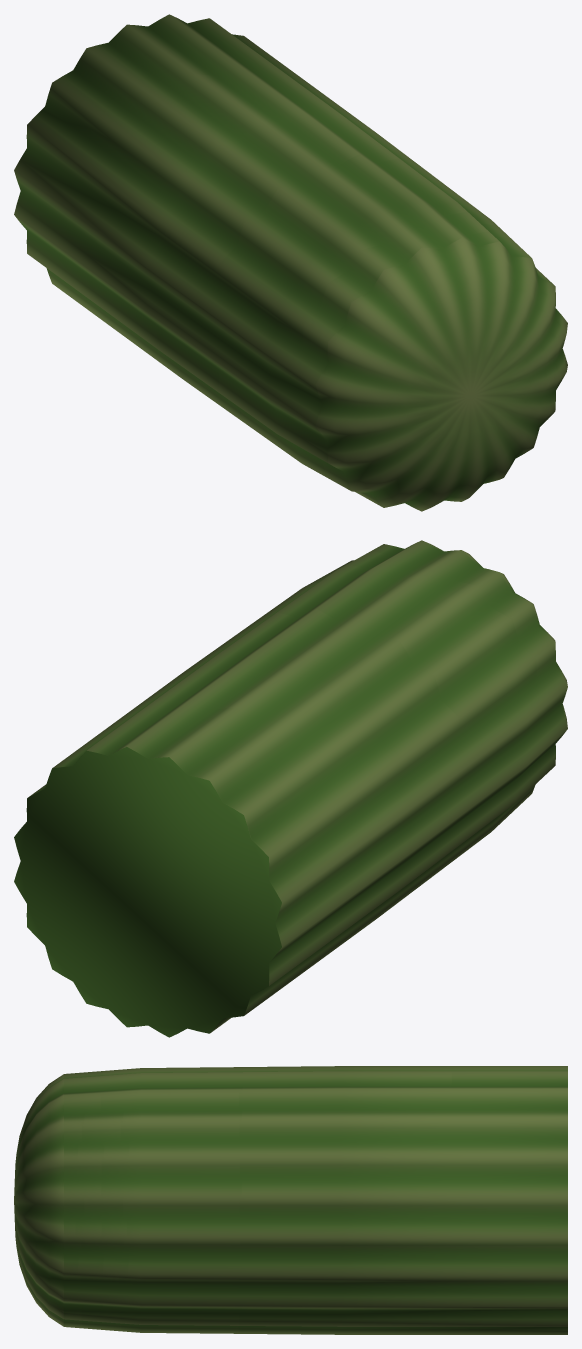
File: arm_textured.FBX
3 views of the same model, one above another, from view 1: azimuth 30°, elevation 25°; view 2: azimuth 150°, elevation 25°; view 3: azimuth 270°, elevation 25° (orthographic). The views are drawn at different scales.
Visible parts, largest first — view 1: Arm; view 2: Arm; view 3: Arm.
Part boxes in pixels (x1,y1,x2,y2): Arm: [14, 14, 567, 511]; Arm: [14, 540, 567, 1037]; Arm: [14, 1066, 567, 1334].
Size of the model in its own units: 26.71 by 26.71 by 55.7.
